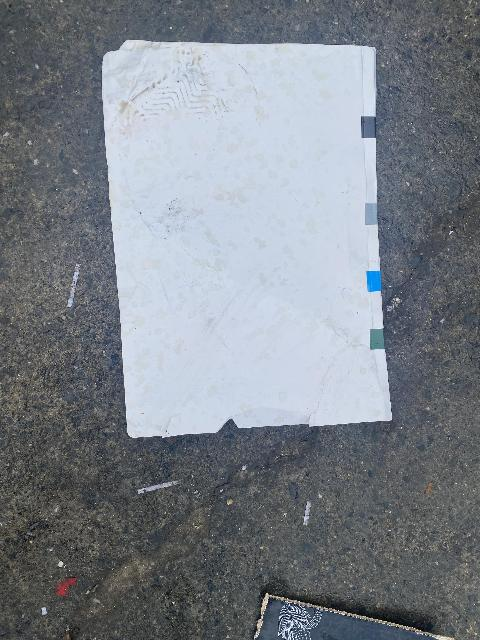Kagit: (95, 21, 405, 448), (233, 578, 480, 640)
